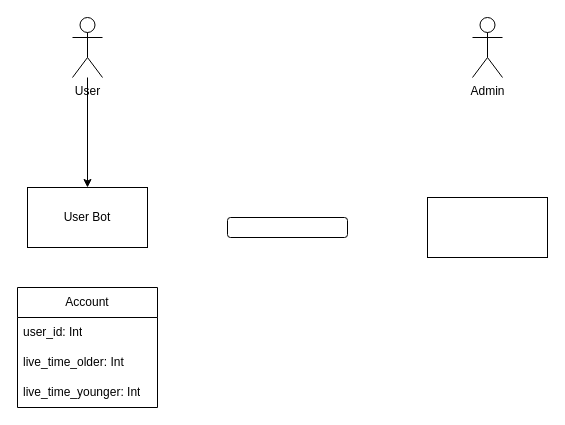
The diagram is 565 pixels wide and 425 high, and some of its shapes have lost their labels. The centre of each missing label's shape, as x and y in pixels:
"Admin Bot" belongs at (x=487, y=227).
"RabbitMQ" belongs at (x=287, y=227).
